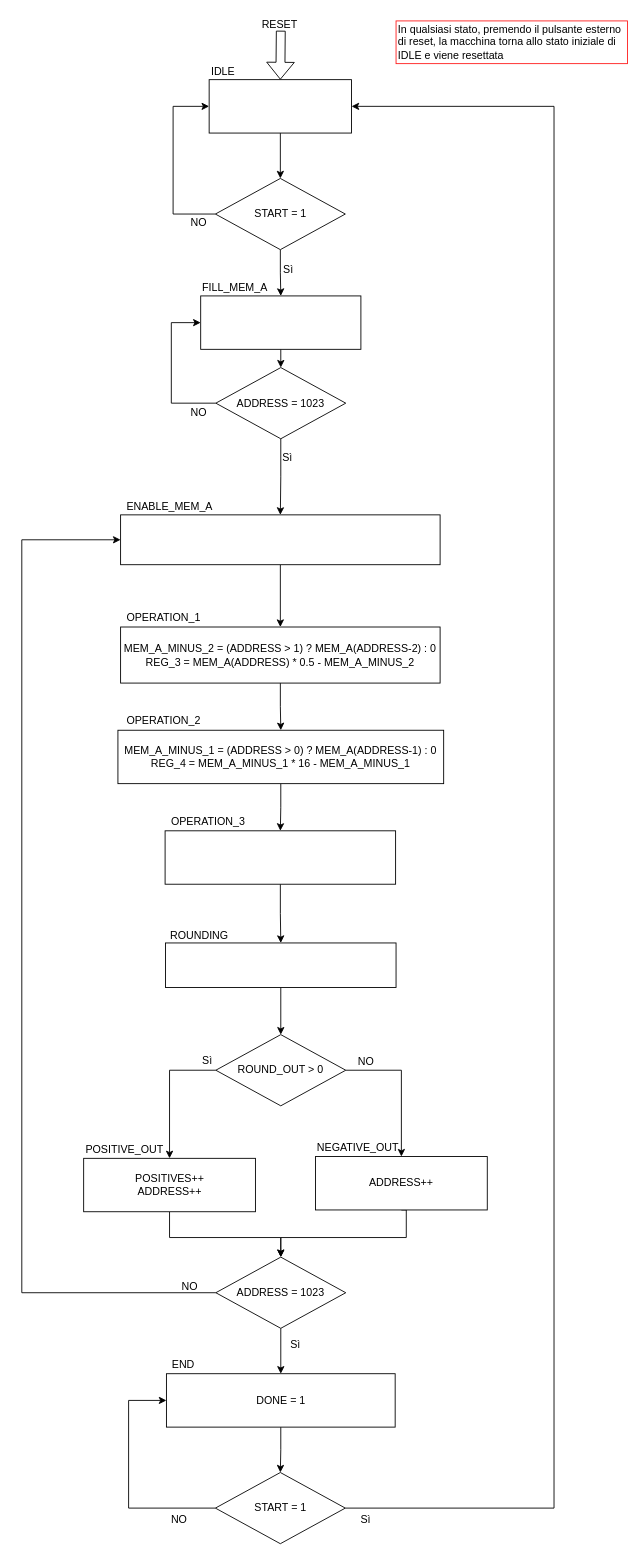
This 643x1559 diagram has some shape labels left out. Here are the shapes that lost their labels. From the top down, the centre of each, then its label:
the point at 280,106: ADDRESS = 0 POSITIVES = 0 RESET EVERYTHING
the point at 280,322: MEM_A(ADDRESS) = DATA_IN ADDRESS = ADDRESS+1
the point at 280,539: ENABLE MEM_A
the point at 280,857: ROUND_IN = REG_3 + (REG_4 / 4)
the point at 280,964: ROUND_OUT = ROUND_IN rounded to 8 bits MEM_B(ADDRESS) = ROUND_OUT
